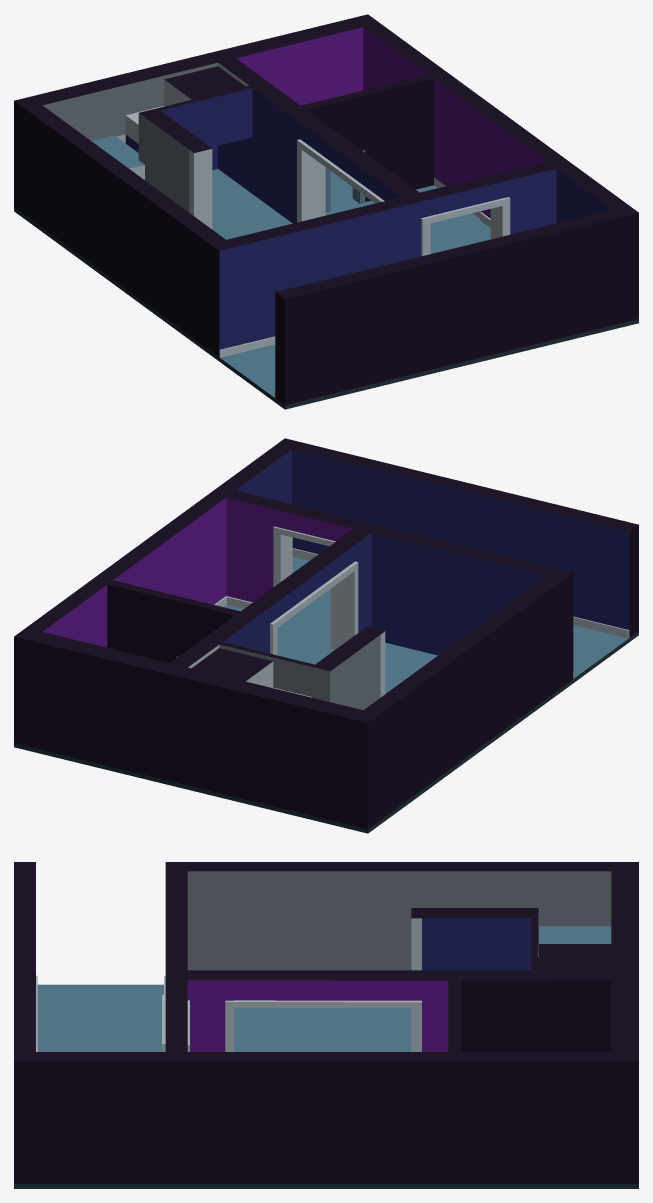
Rendered from Home(Shorter) 1.fbx.
3 views of the same model, one above another, from view 1: azimuth 30°, elevation 25°; view 2: azimuth 150°, elevation 25°; view 3: azimuth 270°, elevation 25° (orthographic). The views are drawn at different scales.
Parts seen in each view (by area): view 1: Cube.211; view 2: Cube.211; view 3: Cube.211.
Boxes of the visible parts, box(x1,y1,x2,y2) form: Cube.211: box(14, 14, 638, 409); Cube.211: box(14, 438, 638, 833); Cube.211: box(14, 862, 638, 1188).
Size of the model in its own units: 1034 by 309 by 1371.
